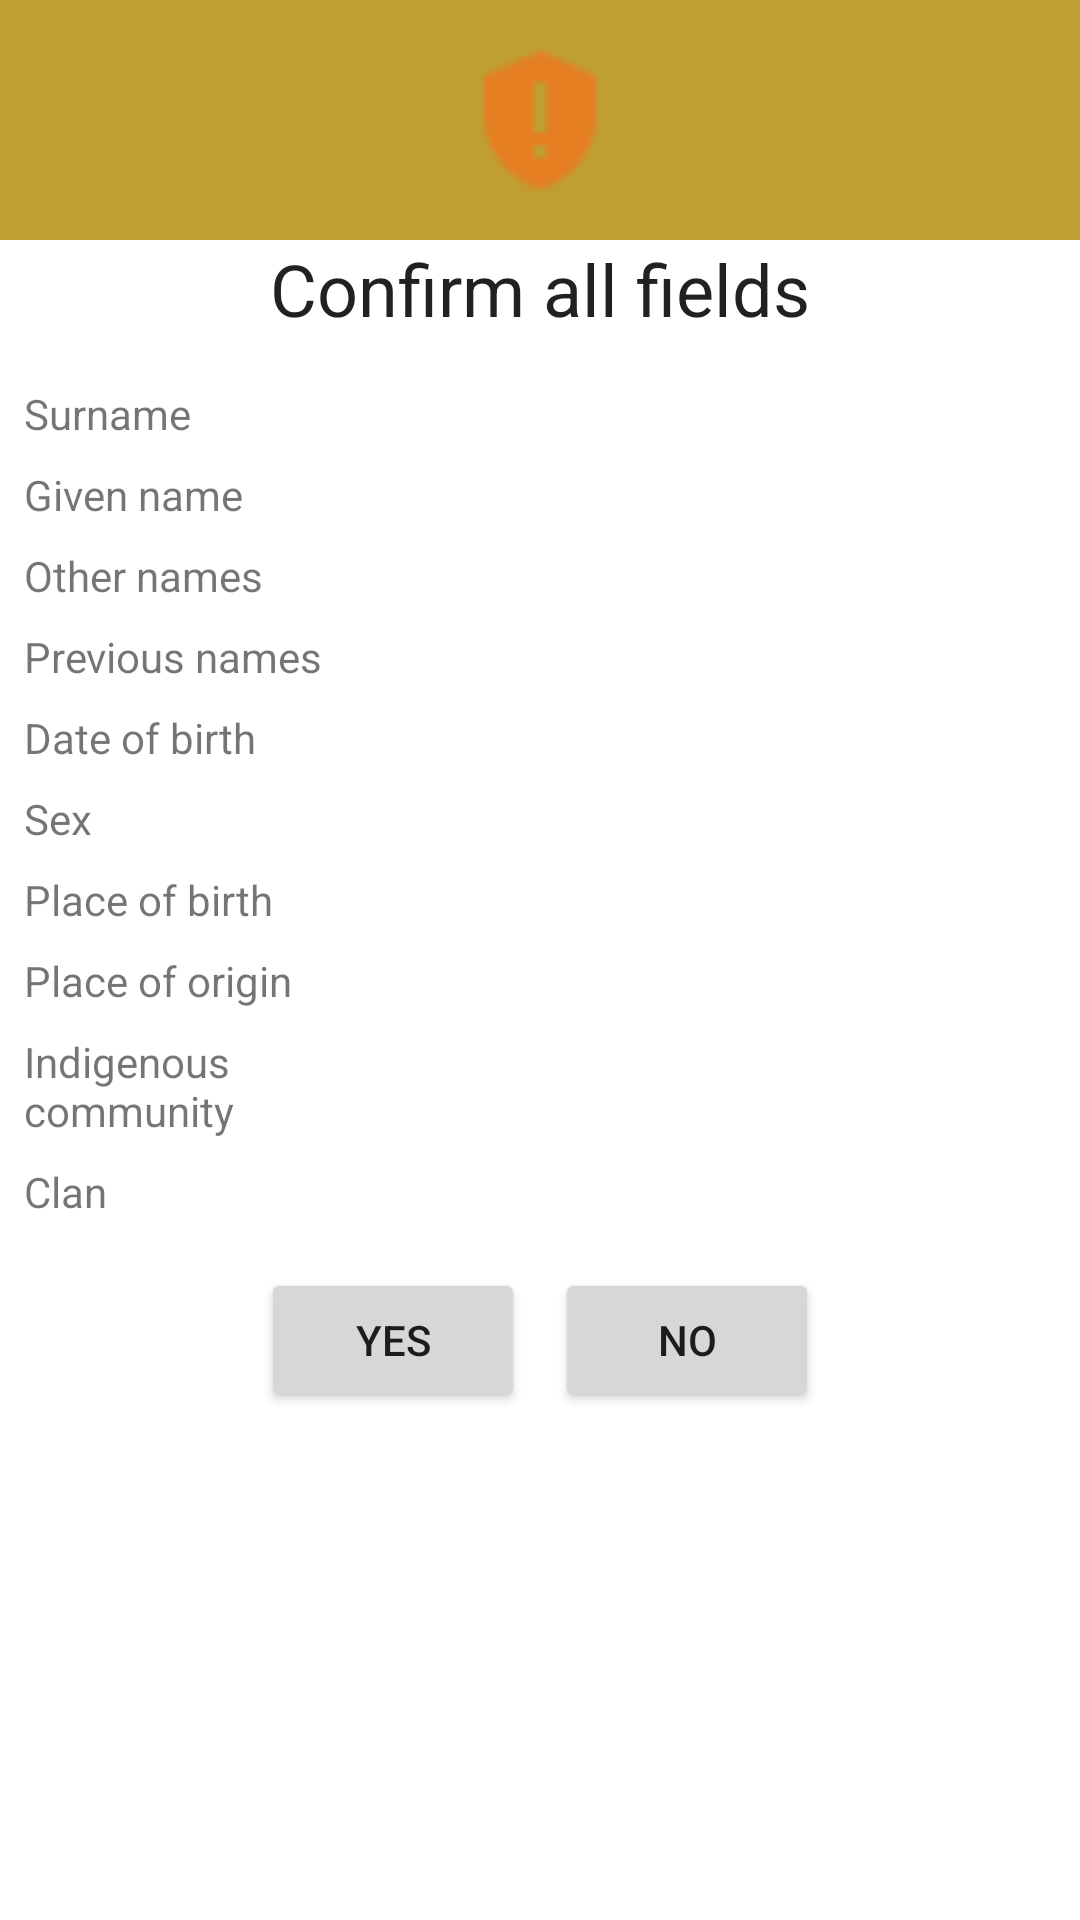

Locate icon controls on the screen. Image size 1080*1920, boxes as rect(x1, y1, x2, y2).
warning: rect(485, 53, 596, 187)
